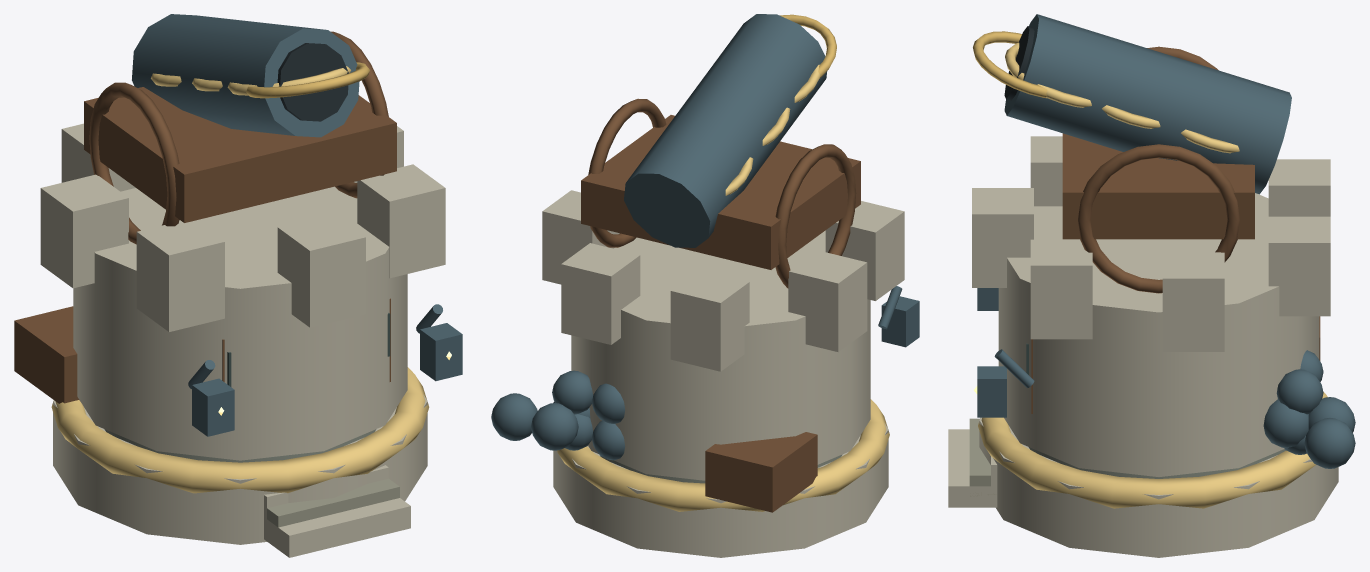
Rendered from tower-cannon-1-base.glb.
3 views of the same model, side by side, from view 1: azimuth 30°, elevation 25°; view 2: azimuth 150°, elevation 25°; view 3: azimuth 270°, elevation 25° (orthographic). The views are drawn at different scales.
Visible parts, largest first — view 1: Foundation, Turret, cannon-L1-base; view 2: Foundation, Turret, cannon-L1-base; view 3: Foundation, Turret, cannon-L1-base.
Boxes of the visible parts, x1,y1,x2,y2 form: Foundation: (14, 123, 462, 557); Turret: (84, 14, 396, 244); cannon-L1-base: (53, 395, 427, 544); Foundation: (491, 190, 919, 512); Turret: (581, 14, 860, 288); cannon-L1-base: (553, 423, 888, 557); Foundation: (948, 136, 1355, 508); Turret: (973, 14, 1291, 293); cannon-L1-base: (979, 417, 1338, 557).
Size of the model in its own units: 1.71 by 2.39 by 1.91.
